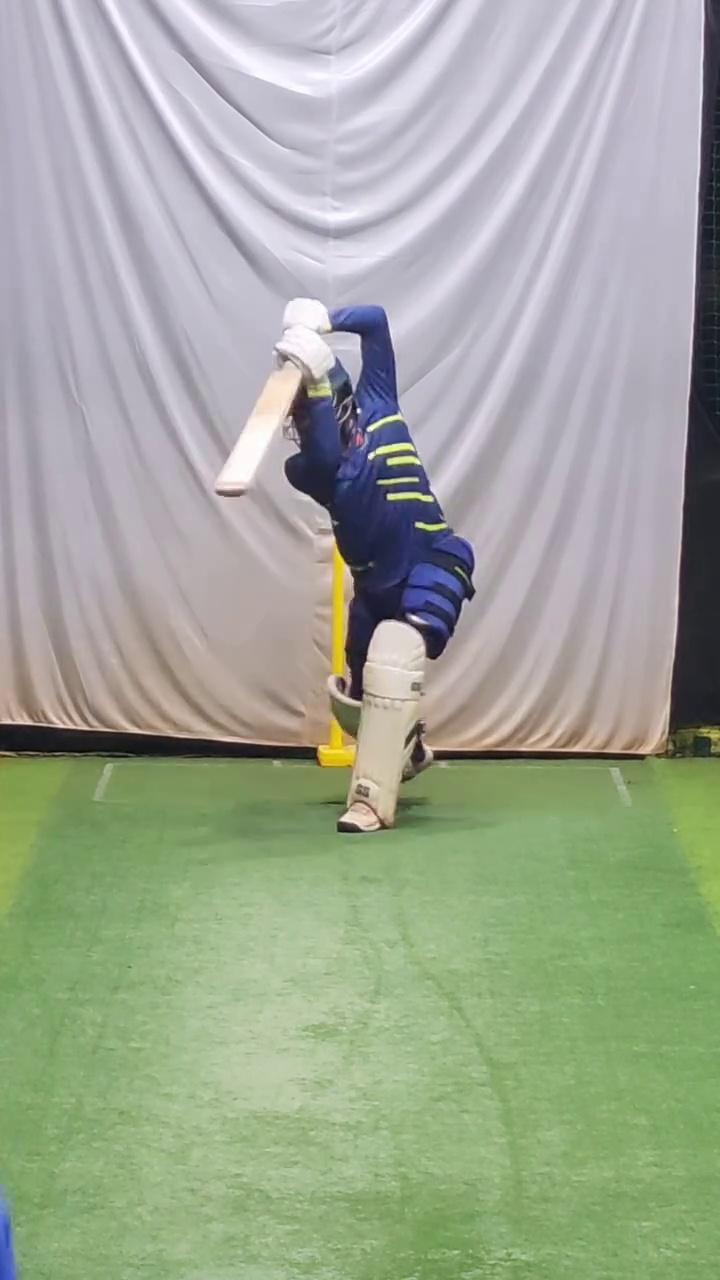bat: (209, 358, 304, 511)
